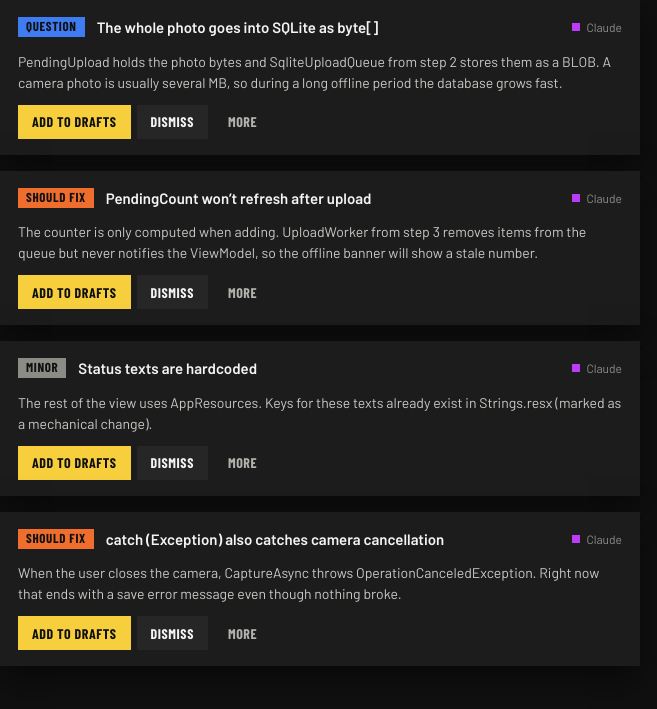
Test: NoteCard › F-09.2 Edit and add with an empty comment cannot be sent; Cancel goes back
Click the button "More" below "PendingCount won’t refresh after upload" at (243, 292), box [214,275,271,309]
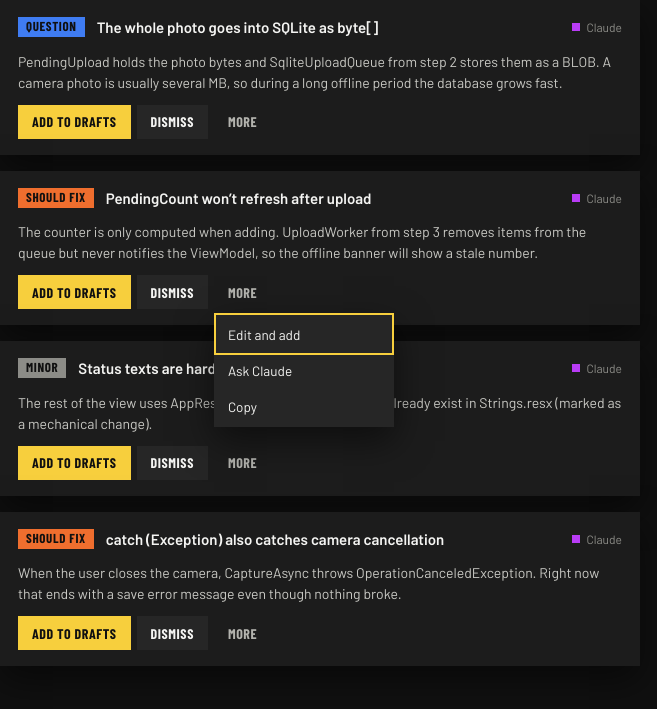
Click the menu item "Edit and add" at (304, 334), box [218,317,390,351]
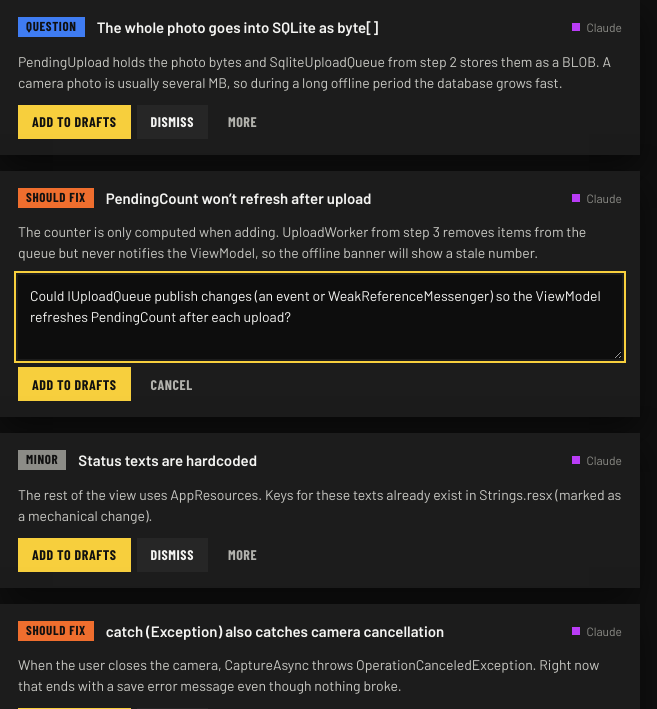
Clear the text box named "Suggested comment" at (320, 317), box [18,275,622,359]
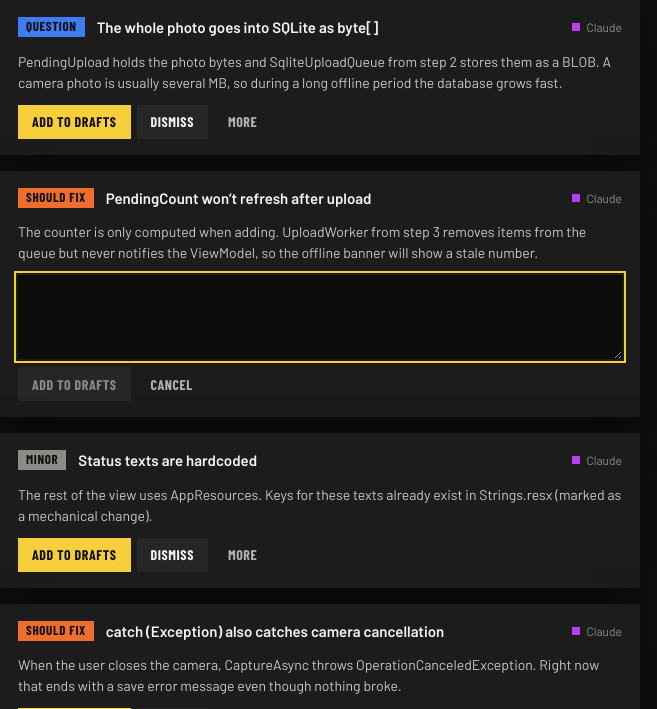
Expected: the button "Add to drafts" below "PendingCount won’t refresh after upload" is disabled, [18,367,131,401]
Click the button "Cancel" at (172, 384), box [137,367,207,401]
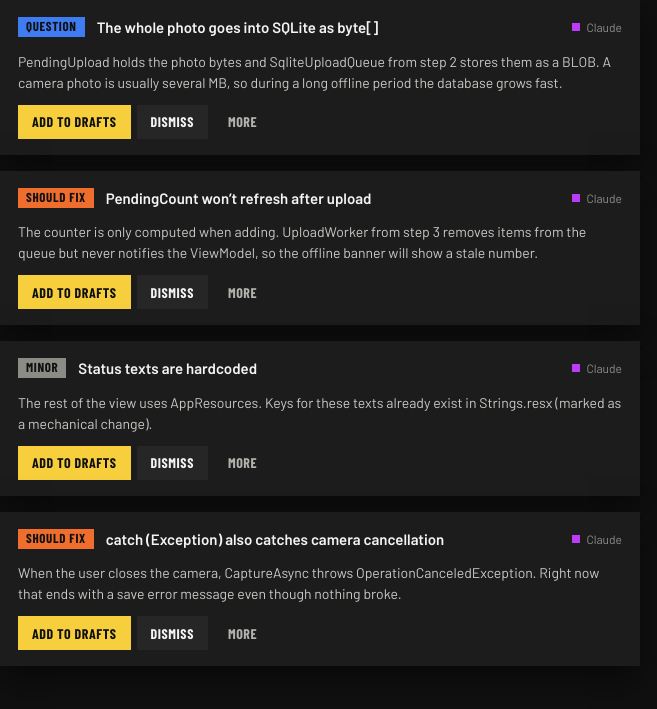
Expected: the button "Dismiss" below "PendingCount won’t refresh after upload" is enabled, [137,275,208,309]
